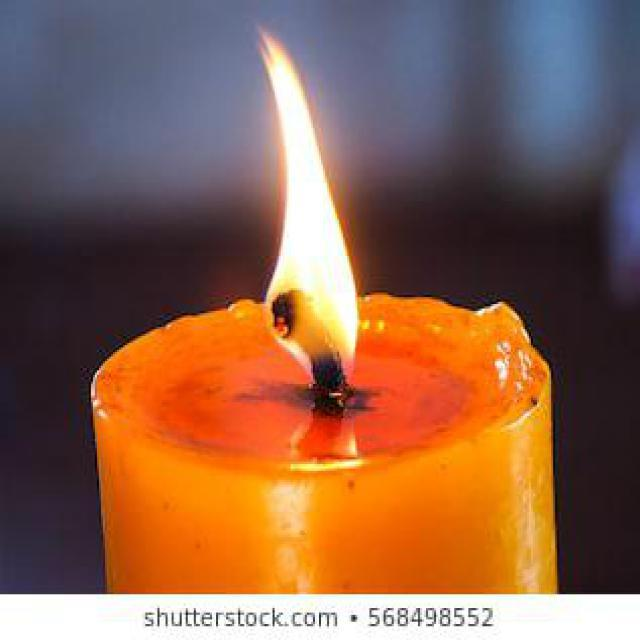Fire: (256, 25, 360, 373)
